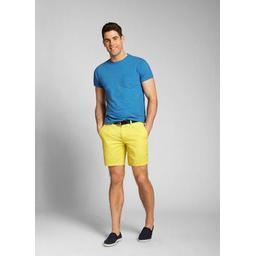Tshirt: (93, 55, 155, 126)
short: (98, 120, 149, 167)
